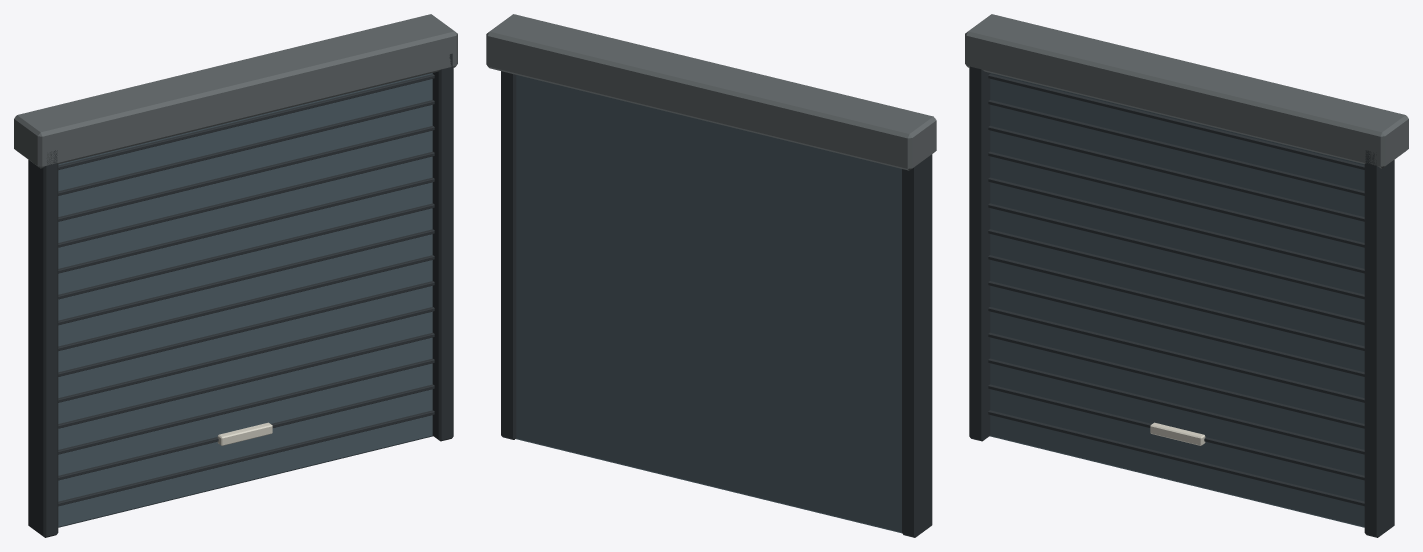
Rendered from BH_Roller_Shutter.glb.
3 views of the same model, side by side, from view 1: azimuth 30°, elevation 25°; view 2: azimuth 150°, elevation 25°; view 3: azimuth 330°, elevation 25° (orthographic).
Parts seen in each view (by area): view 1: BH_Roller_Shutter_RenderMesh; view 2: BH_Roller_Shutter_RenderMesh; view 3: BH_Roller_Shutter_RenderMesh.
Part boxes in pixels (x1,y1,x2,y2): BH_Roller_Shutter_RenderMesh: [14, 14, 457, 537]; BH_Roller_Shutter_RenderMesh: [486, 14, 936, 537]; BH_Roller_Shutter_RenderMesh: [965, 14, 1408, 537].
Size of what is drawn, in the model's own units: 3.4 by 3.14 by 0.38.
